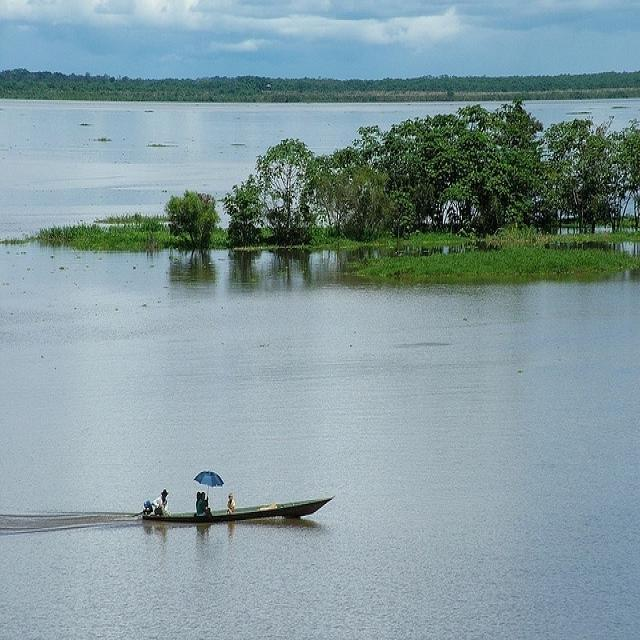Hyacinth: (352, 250, 632, 291), (1, 215, 158, 249), (143, 139, 180, 153), (50, 264, 74, 277), (91, 136, 119, 144), (224, 142, 252, 150), (142, 107, 156, 114), (77, 122, 92, 126), (132, 264, 137, 272)
boat: (136, 492, 345, 538)
